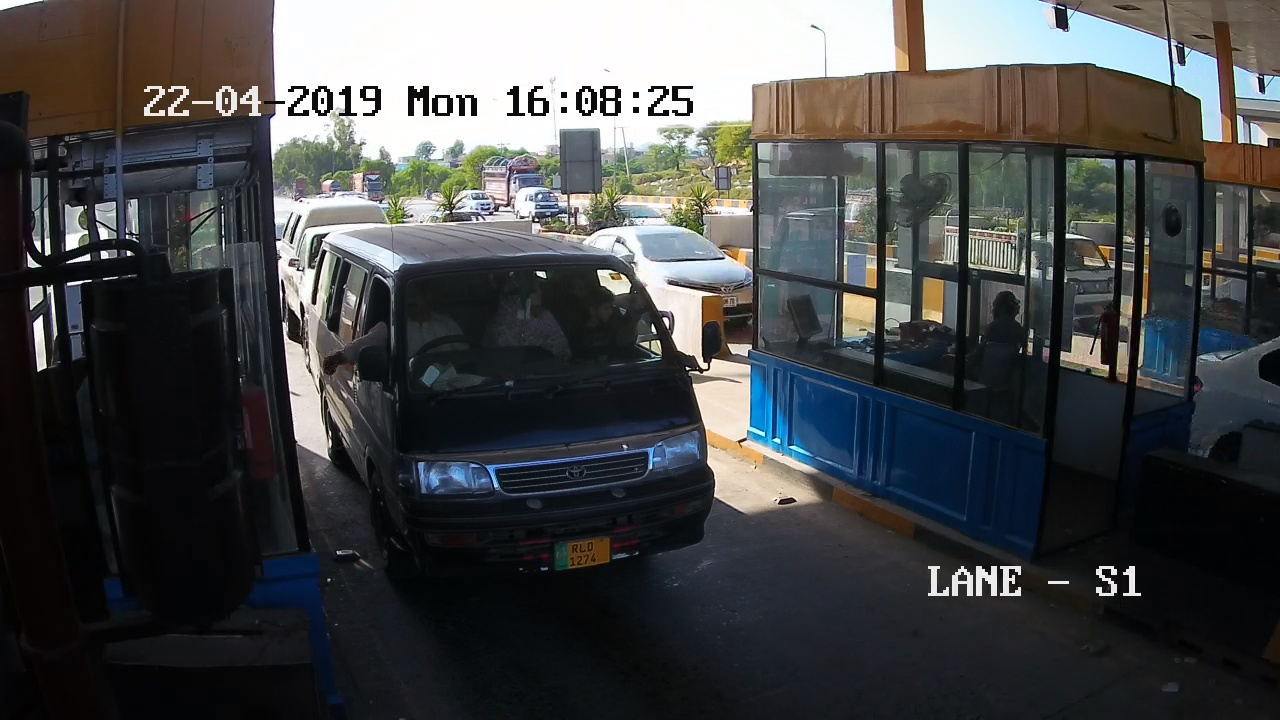Number Plate (Car): (554, 537, 609, 568)
